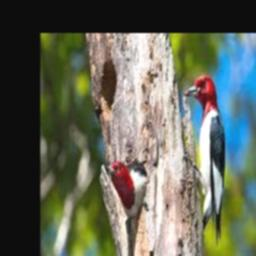Woodpecker: (184, 76, 226, 245), (106, 157, 148, 251)
